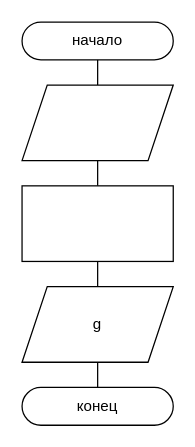
Some shapes in this 195 by 447 pixel diagram are drawn without their labels. The shapes that lost their labels are listed below. From the top down, each one's centre as x and y in pixels, then its label:
point (97, 122): a, b, c
point (97, 223): Вычисление g
